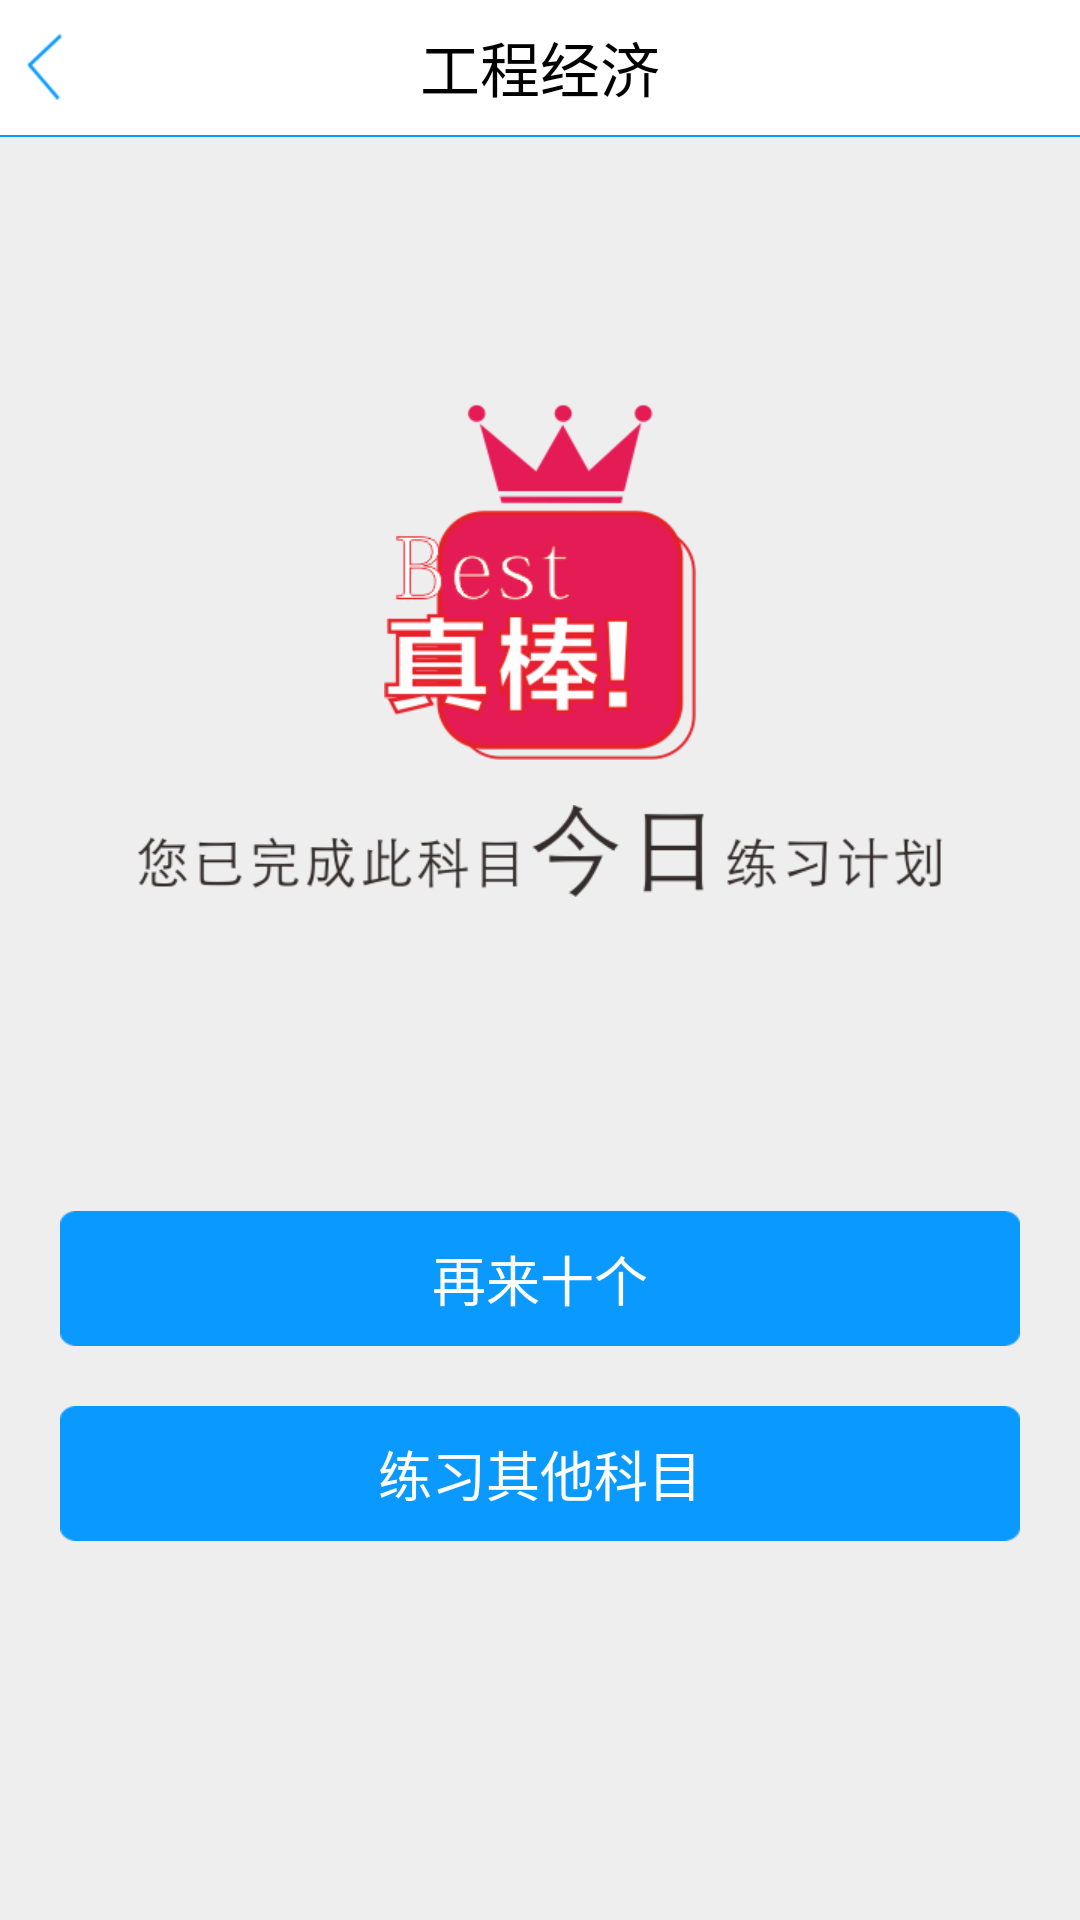

Where icons sit on this 1080 x 1920 app screen, as [x1=x1, y1=y1, x2=x2, y2=y2]:
back: [x1=27, y1=34, x2=62, y2=100]
